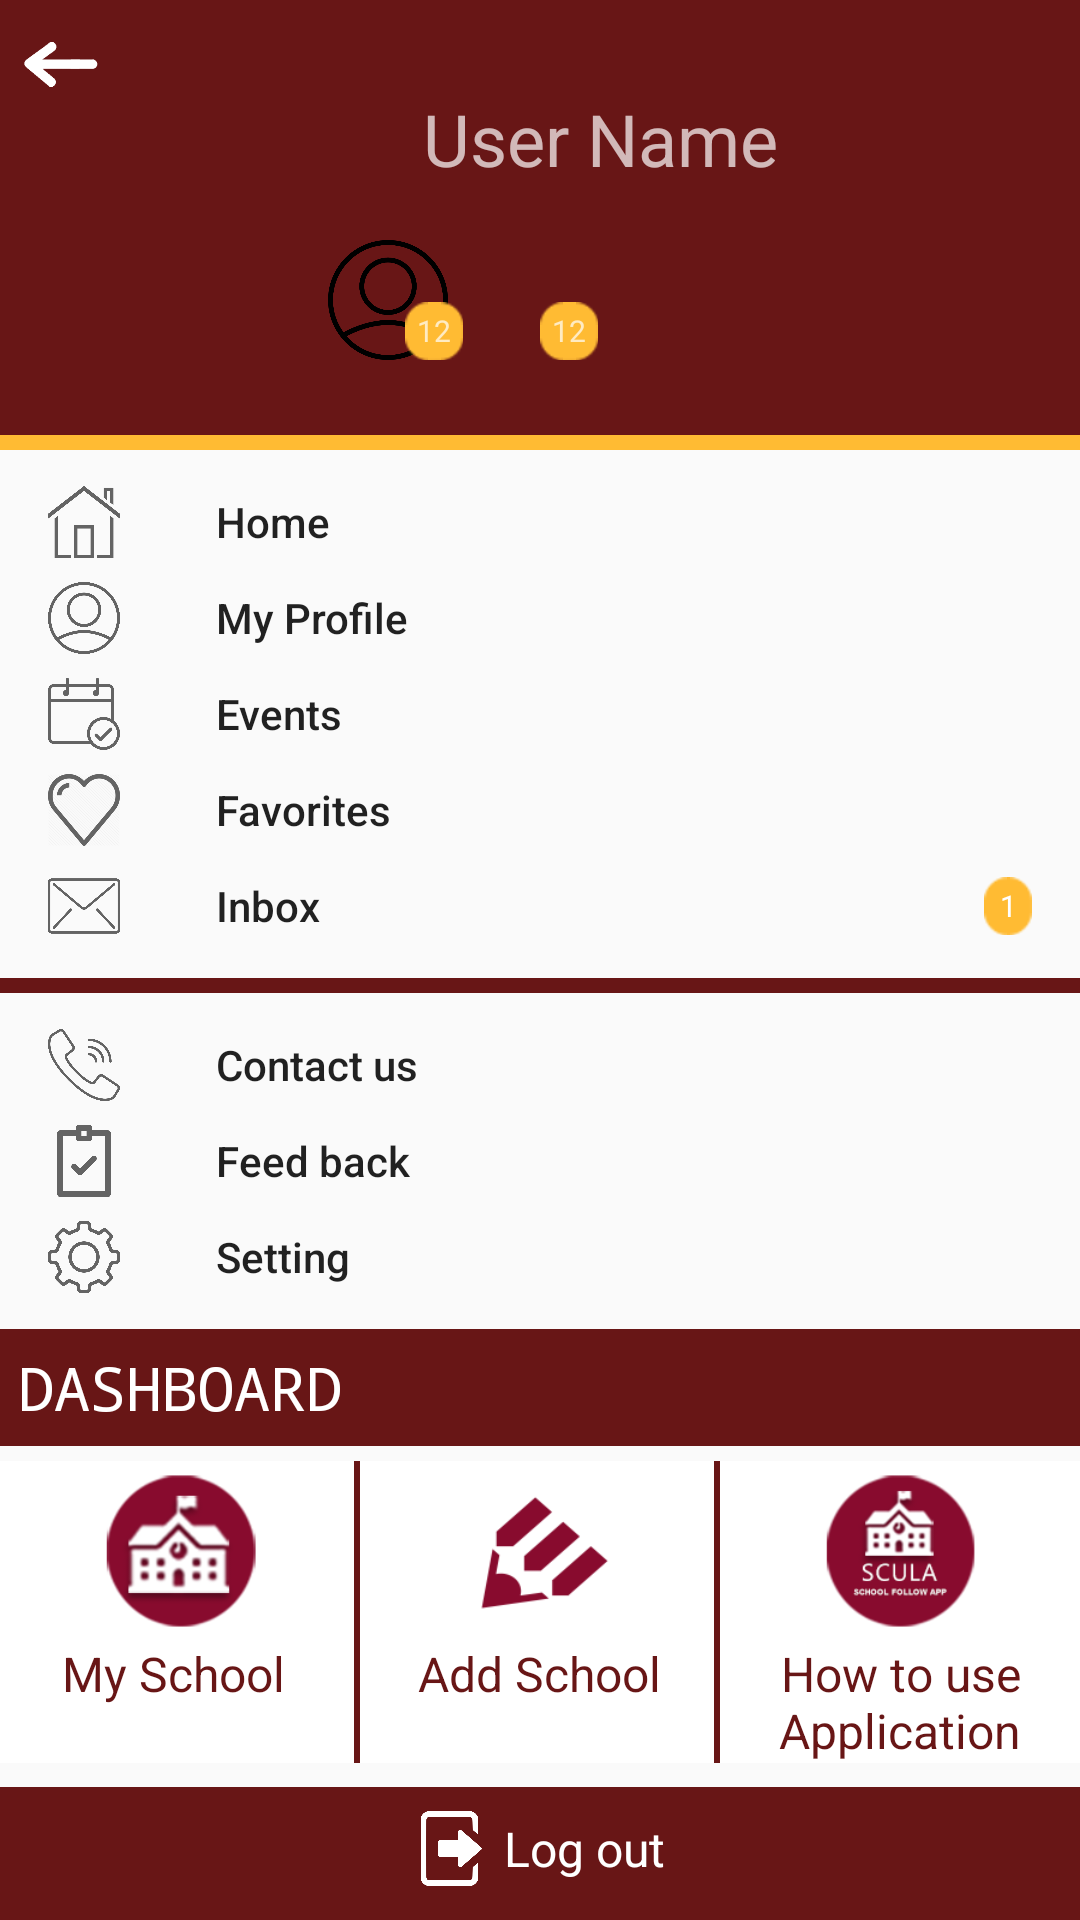

Named icons in this screenshot (1080×1920) and their centers, (x,y):
school building: (181,1551)
